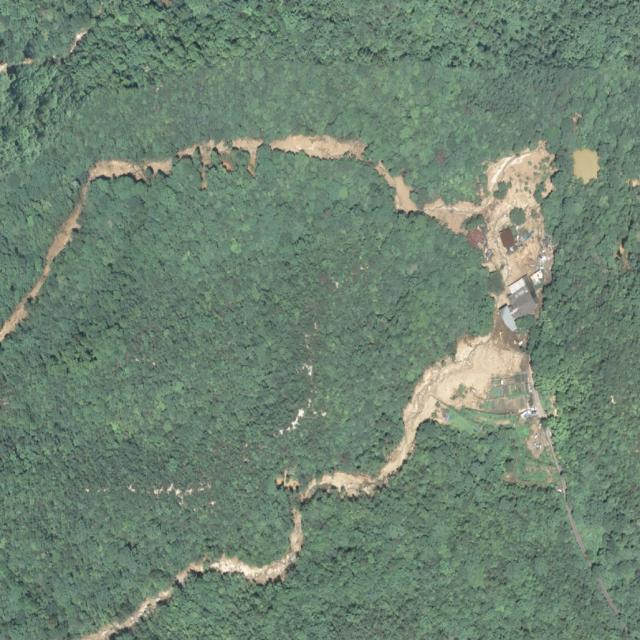landslide: (276, 140, 594, 569), (0, 133, 371, 342), (87, 508, 303, 639)
